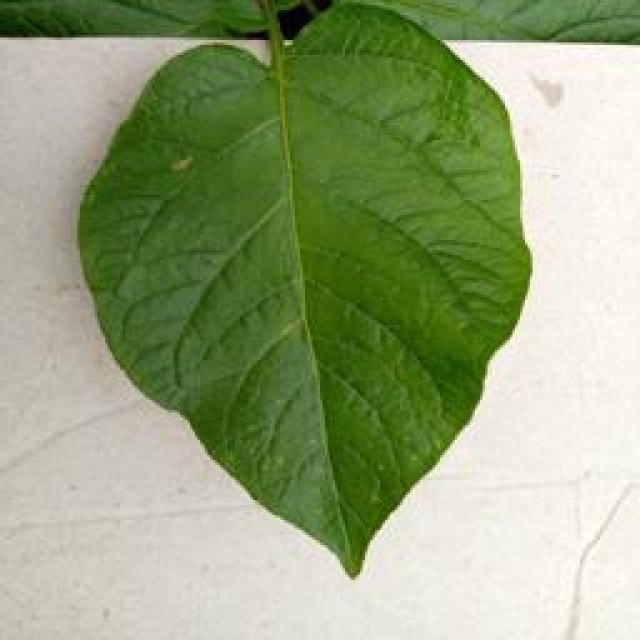healthy: (70, 2, 538, 580)
